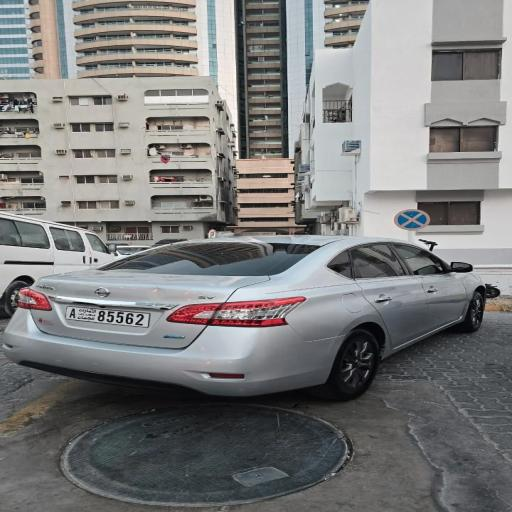license-plates: (65, 306, 150, 327)
